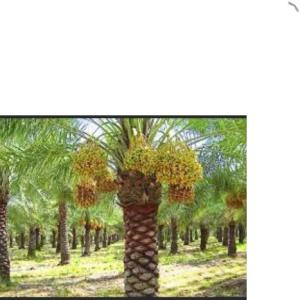palm tree: (0, 116, 78, 286)
